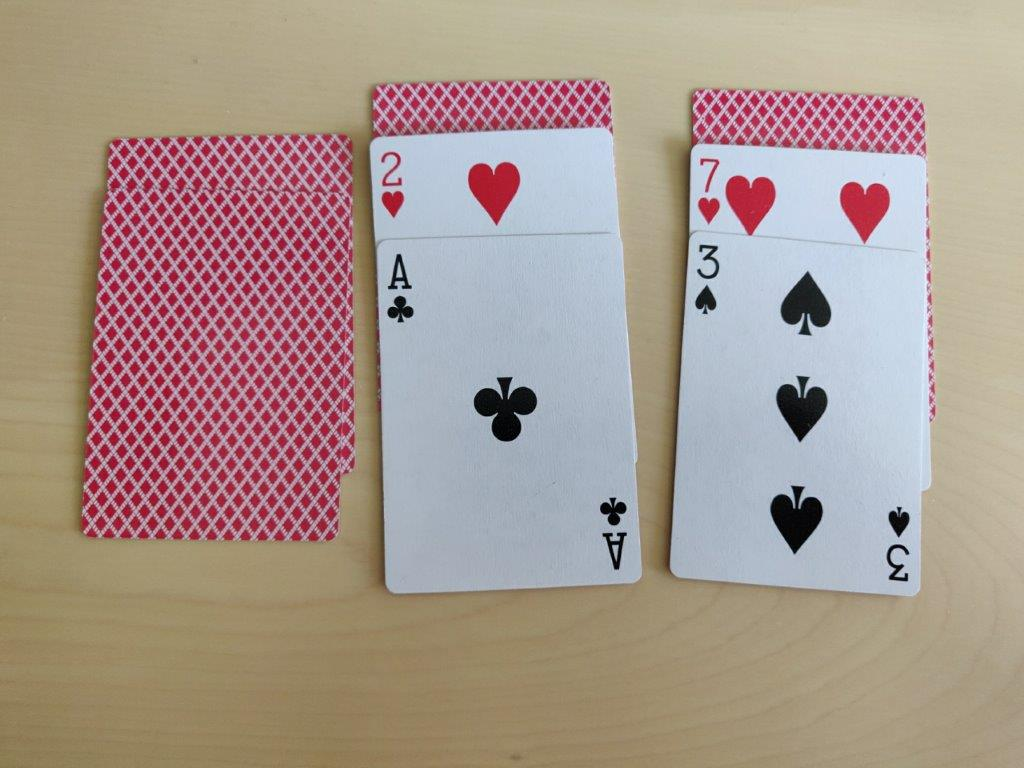2H: (374, 144, 412, 223)
3S: (687, 240, 737, 315)
7H: (695, 154, 724, 229)
AC: (384, 254, 424, 330)
BACK: (85, 192, 351, 553), (85, 128, 357, 202), (693, 89, 928, 154), (361, 81, 627, 134)
